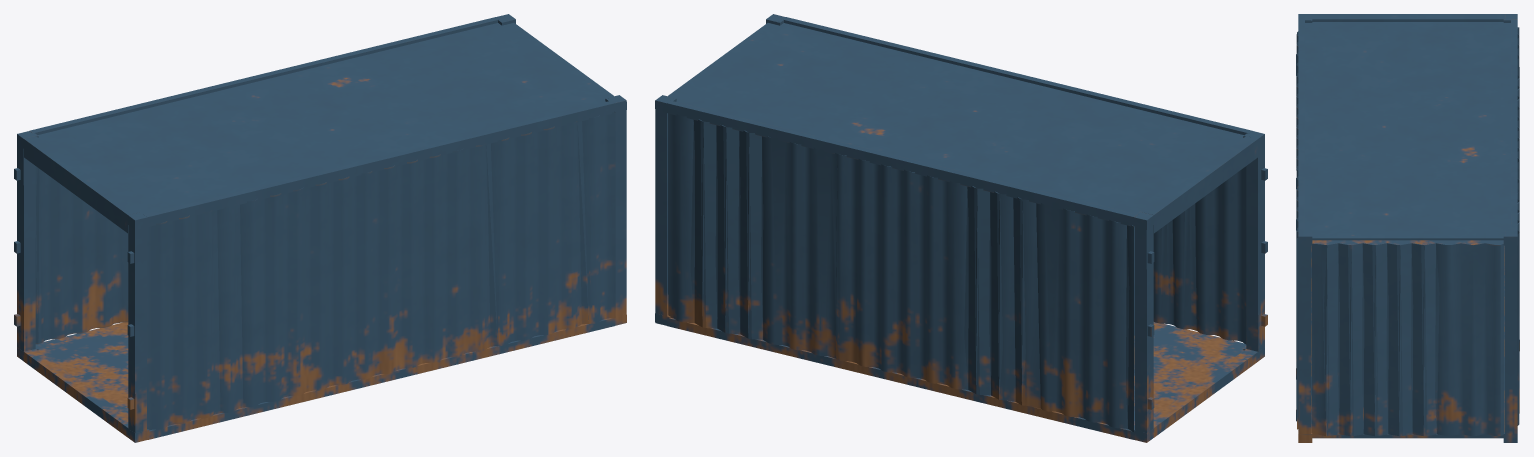
File: SM_ShippingContainer_LOD1.fbx
3 views of the same model, side by side, from view 1: azimuth 30°, elevation 25°; view 2: azimuth 150°, elevation 25°; view 3: azimuth 270°, elevation 25° (orthographic). The views are drawn at different scales.
Visible parts, largest first — view 1: SM_ShippingContainer_LOD1; view 2: SM_ShippingContainer_LOD1; view 3: SM_ShippingContainer_LOD1.
Boxes of the visible parts, <box> form: SM_ShippingContainer_LOD1: <box>14,14,626,442</box>; SM_ShippingContainer_LOD1: <box>655,14,1267,442</box>; SM_ShippingContainer_LOD1: <box>1296,14,1519,442</box>.
Bounding box in the file's own units: 6.07 × 2.6 × 2.55.
Materials: 1 (1 with a texture image).
